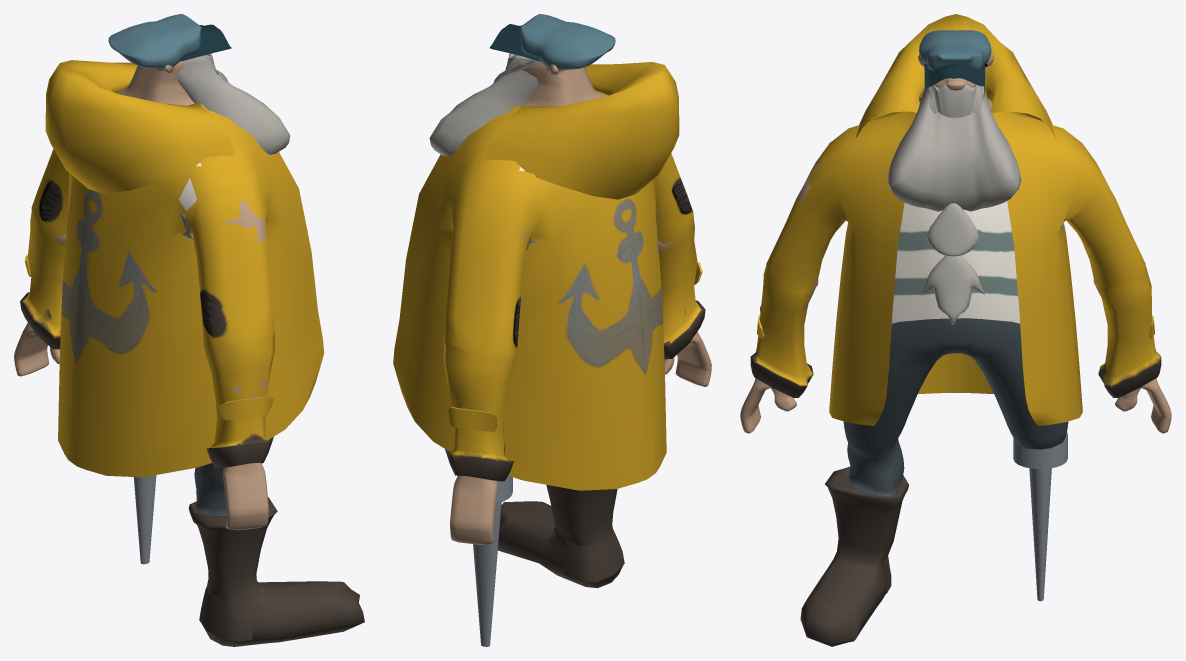
File: Sailor Enrique Geo.fbx
The picture shows the model from 3 angles, left to right: view 1: azimuth 30°, elevation 25°; view 2: azimuth 150°, elevation 25°; view 3: azimuth 270°, elevation 25°; orthographic projection. The views are drawn at different scales.
Parts seen in each view (by area): view 1: Jacket, Sailor_Body_Geo, pCube18, Hat, pCylinder6, Brim; view 2: Jacket, Sailor_Body_Geo, pCube18, Hat, pCylinder6, Brim; view 3: Jacket, Sailor_Body_Geo, pCube18, Hat, pCube22, pCylinder6, pCube21, pCube19, pCylinder5, Brim.
Part boxes in pixels (<box>): Jacket: <box>20,60,324,477</box>; Sailor_Body_Geo: <box>14,62,364,646</box>; pCube18: <box>176,60,290,154</box>; Hat: <box>108,14,201,68</box>; pCylinder6: <box>133,475,156,564</box>; Brim: <box>179,24,231,61</box>; Jacket: <box>393,62,705,490</box>; Sailor_Body_Geo: <box>445,63,711,587</box>; pCube18: <box>429,70,538,156</box>; Hat: <box>519,14,615,70</box>; pCylinder6: <box>473,502,501,646</box>; Brim: <box>490,24,541,61</box>; Jacket: <box>750,14,1161,425</box>; Sailor_Body_Geo: <box>740,53,1171,646</box>; pCube18: <box>887,87,1021,211</box>; Hat: <box>919,30,991,70</box>; pCube22: <box>921,255,984,324</box>; pCylinder6: <box>1029,468,1051,601</box>; pCube21: <box>927,203,978,256</box>; pCube19: <box>928,69,985,117</box>; pCylinder5: <box>1013,432,1067,469</box>; Brim: <box>924,63,985,87</box>.
Size of the model in its own units: 82.28 by 184 by 132.
